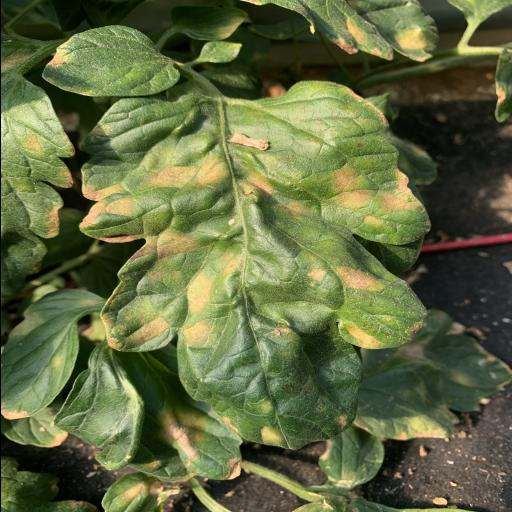Leaf Mold: (78, 80, 430, 448), (0, 290, 104, 420), (41, 24, 180, 98)
